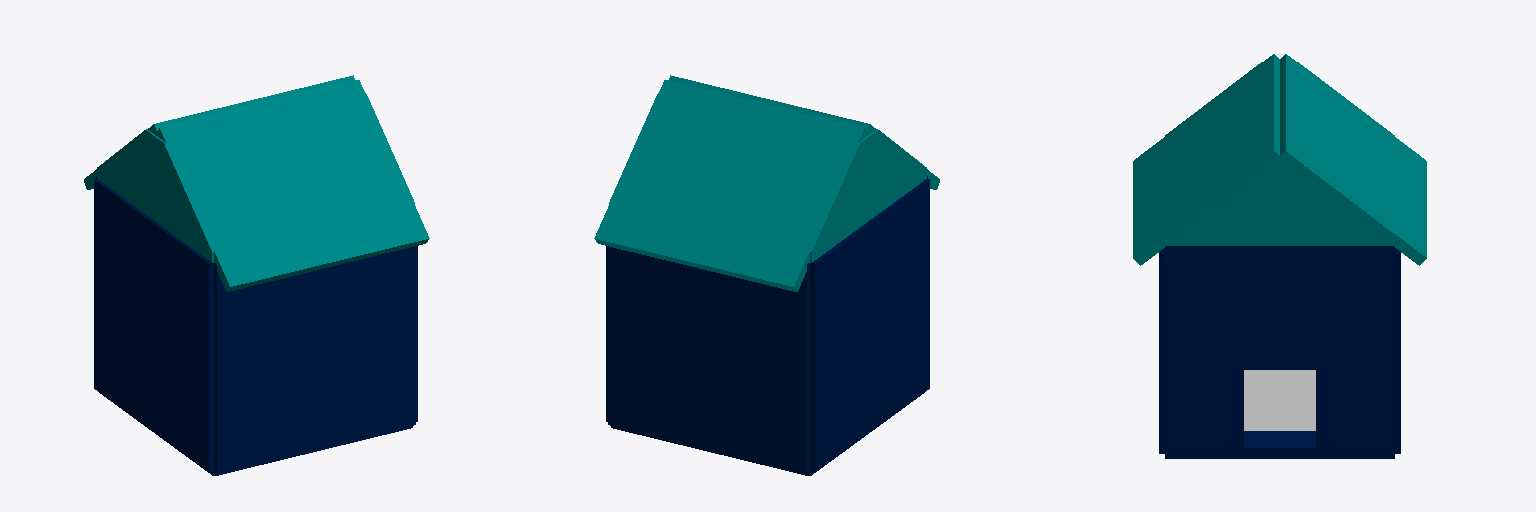
3 views of the same model, side by side, from view 1: azimuth 30°, elevation 25°; view 2: azimuth 150°, elevation 25°; view 3: azimuth 270°, elevation 25° (orthographic).
Parts seen in each view (by area): view 1: Cube.006_Cube.009, Cube.013_Cube.017, Cube.000_Cube.005, Cube.007_Cube.019, Cube.010_Cube.014, Cube.001; view 2: Cube.002, Cube.010_Cube.014, Cube.000_Cube.005, Cube.007_Cube.019, Cube.013_Cube.017, Cube.001; view 3: Cube.003_Cube.004, Cube.010_Cube.014, Cube.013_Cube.017, Cube.011_Cube.015, Cube.005_Cube.008, Cube.004_Cube.006, Cube_Cube.010, Cube.001, Cube.002, Cube.006_Cube.009.
Boxes of the visible parts, x1,y1,x2,y2 form: Cube.006_Cube.009: [214, 246, 415, 472]; Cube.013_Cube.017: [156, 80, 429, 291]; Cube.000_Cube.005: [94, 179, 213, 472]; Cube.007_Cube.019: [97, 129, 214, 262]; Cube.010_Cube.014: [84, 75, 354, 189]; Cube.001: [100, 393, 412, 475]; Cube.002: [608, 246, 809, 472]; Cube.010_Cube.014: [594, 80, 867, 291]; Cube.000_Cube.005: [810, 179, 929, 472]; Cube.007_Cube.019: [810, 129, 926, 262]; Cube.013_Cube.017: [669, 75, 939, 189]; Cube.001: [611, 393, 923, 475]; Cube.003_Cube.004: [1165, 246, 1394, 369]; Cube.010_Cube.014: [1279, 54, 1426, 265]; Cube.013_Cube.017: [1133, 54, 1280, 265]; Cube.011_Cube.015: [1165, 160, 1394, 245]; Cube.005_Cube.008: [1316, 369, 1394, 455]; Cube.004_Cube.006: [1165, 369, 1243, 455]; Cube_Cube.010: [1244, 370, 1315, 430]; Cube.001: [1165, 431, 1394, 458]; Cube.002: [1395, 248, 1400, 453]; Cube.006_Cube.009: [1159, 248, 1164, 453].
Bounding box in the file's own units: 10.5 × 14.76 × 12.75.
13 materials, 2 textured.